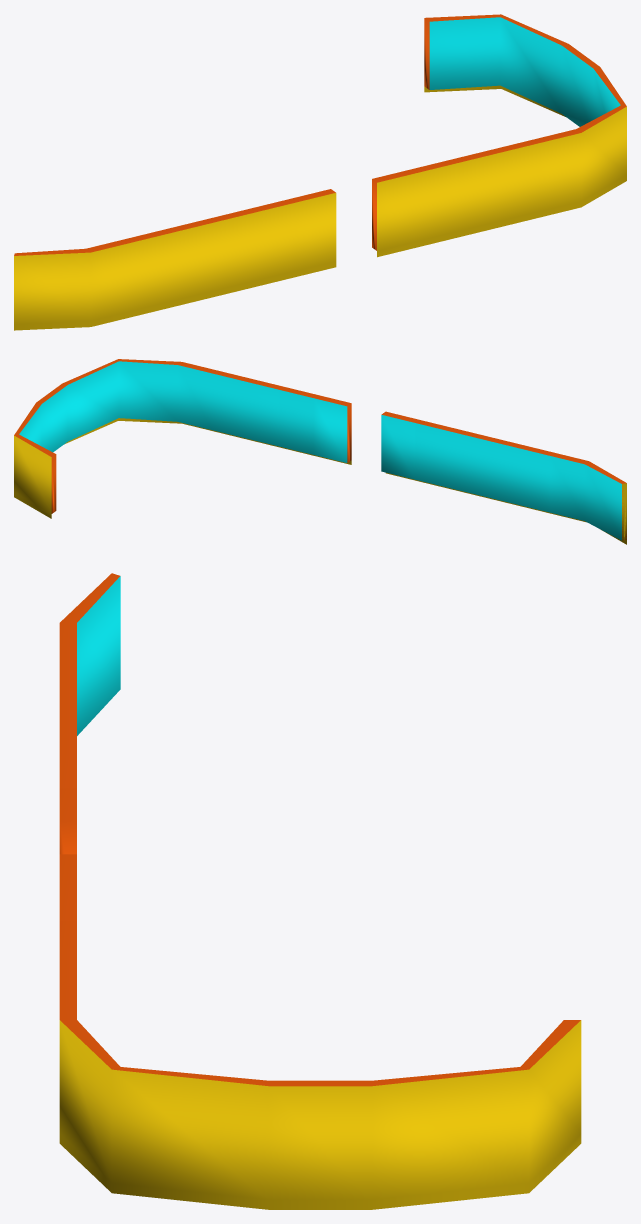
The model's file is oficina2.fbx.
3 views of the same model, one above another, from view 1: azimuth 30°, elevation 25°; view 2: azimuth 150°, elevation 25°; view 3: azimuth 270°, elevation 25° (orthographic). The views are drawn at different scales.
Parts seen in each view (by area): view 1: Cube.001; view 2: Cube.001; view 3: Cube.001.
Part boxes in pixels (x1,y1,x2,y2): Cube.001: (14,14,626,330); Cube.001: (14,359,626,544); Cube.001: (59,573,581,1209).
Bounding box in the file's own units: 14.53 × 6.24 × 1.63.
